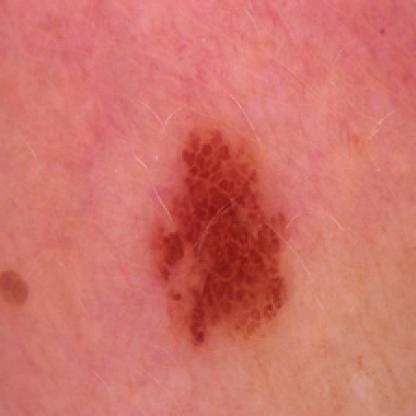benign: (156, 119, 297, 343)
